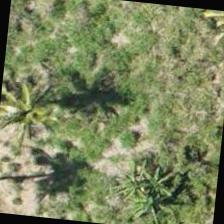Kelapa_Sawit: (9, 120, 108, 219), (0, 68, 76, 166)
